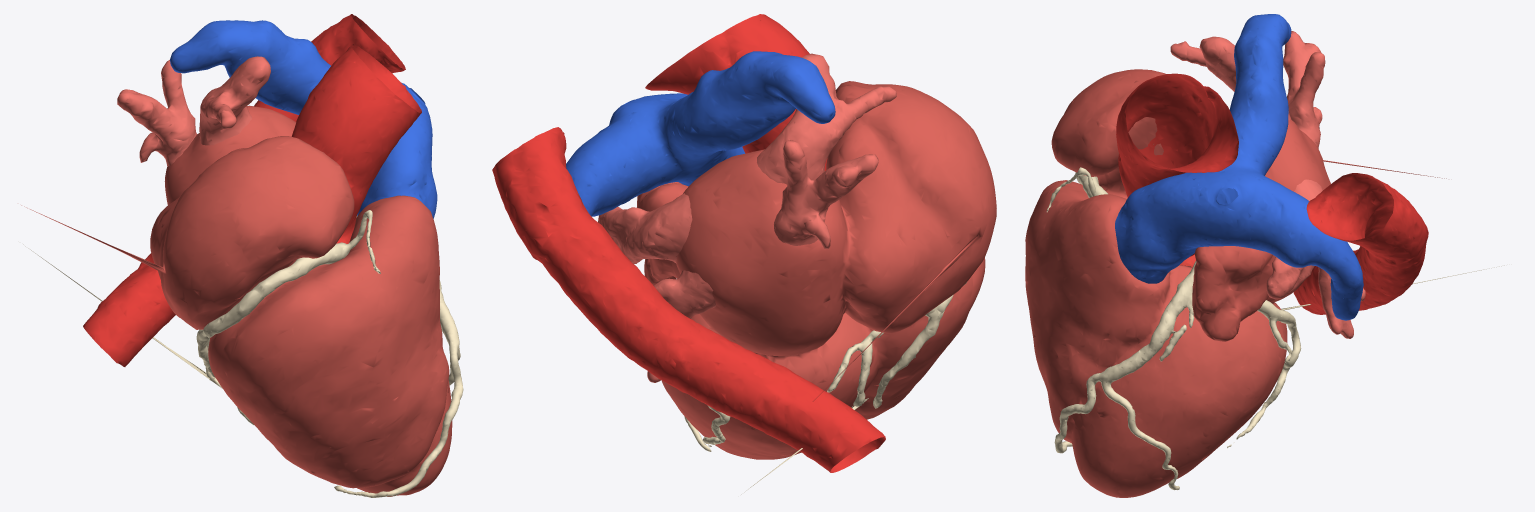
The model's file is heart_91.glb.
The picture shows the model from 3 angles, left to right: view 1: azimuth 30°, elevation 25°; view 2: azimuth 150°, elevation 25°; view 3: azimuth 270°, elevation 25°; orthographic projection. The views are drawn at different scales.
Parts seen in each view (by area): view 1: HeartWall, Aorta, PulmonaryArtery, PulmonaryVeins, CoronaryArteries; view 2: HeartWall, Aorta, PulmonaryArtery, PulmonaryVeins, CoronaryArteries; view 3: HeartWall, PulmonaryArtery, Aorta, PulmonaryVeins, CoronaryArteries.
Boxes of the visible parts, x1,y1,x2,y2 form: HeartWall: (21, 105, 452, 496); Aorta: (83, 14, 421, 366); PulmonaryArtery: (170, 20, 437, 218); PulmonaryVeins: (117, 56, 270, 166); CoronaryArteries: (23, 210, 463, 497); HeartWall: (637, 81, 996, 459); Aorta: (492, 14, 885, 472); PulmonaryArtery: (566, 51, 835, 216); PulmonaryVeins: (598, 53, 896, 382); CoronaryArteries: (684, 282, 966, 494); HeartWall: (1025, 69, 1446, 497); PulmonaryArtery: (1115, 14, 1363, 320); Aorta: (1116, 73, 1428, 314); PulmonaryVeins: (1170, 31, 1365, 338); CoronaryArteries: (1046, 167, 1504, 490).
Bounding box in the file's own units: 0.1331 × 0.1652 × 0.1727.
